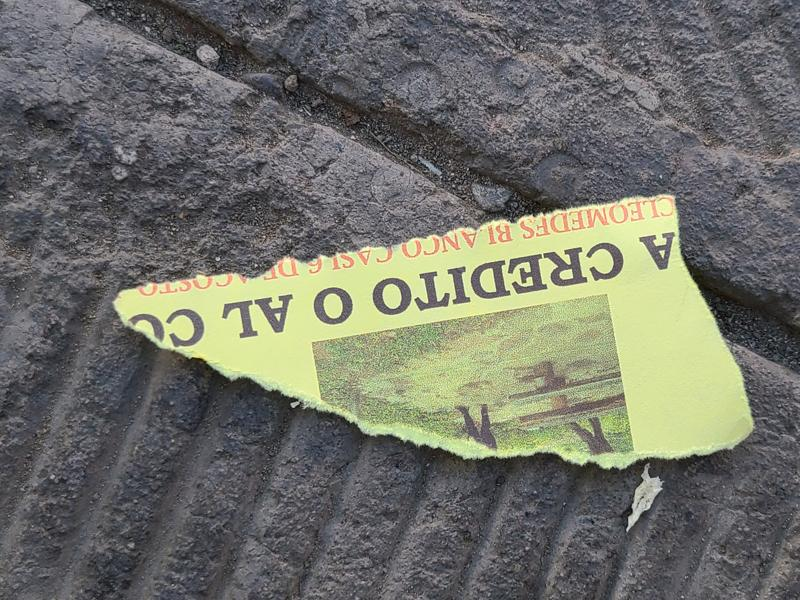papel: (112, 195, 755, 472)
